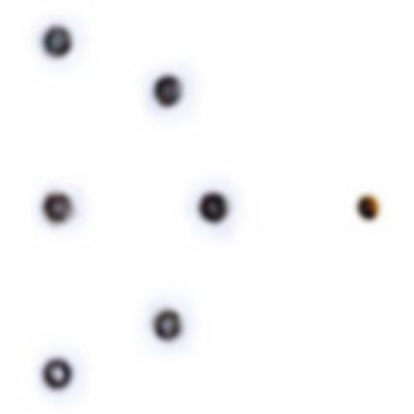abnormal: (341, 173, 398, 236)
cancer: (170, 164, 261, 252), (25, 176, 97, 248), (22, 340, 97, 406), (134, 61, 206, 129), (26, 16, 103, 77), (135, 288, 204, 353)
